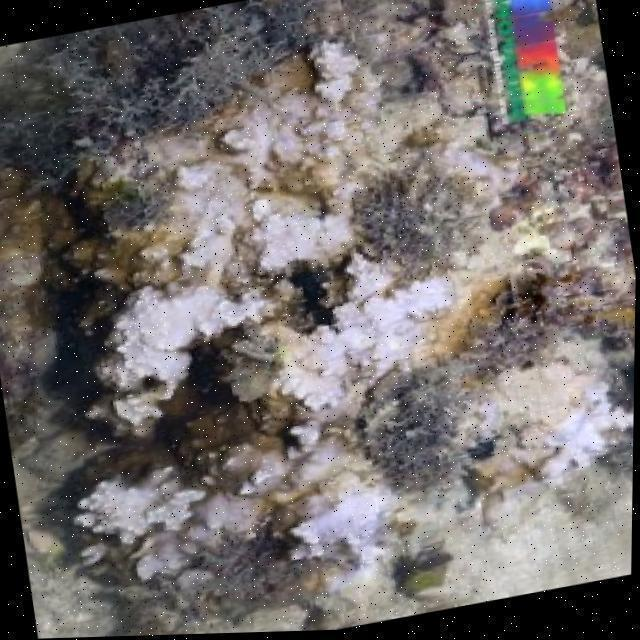Bleached Coral: (78, 209, 465, 386), (64, 432, 387, 607), (465, 330, 636, 526)
